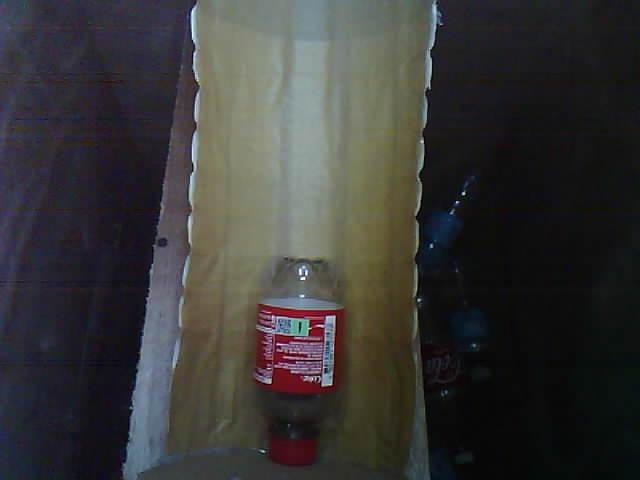small_bottle: (245, 242, 356, 480)
